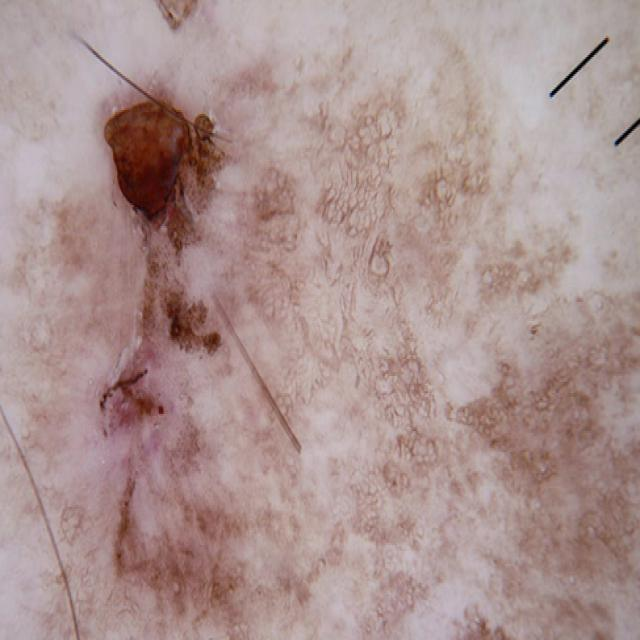Keratosis: (51, 40, 339, 606)
